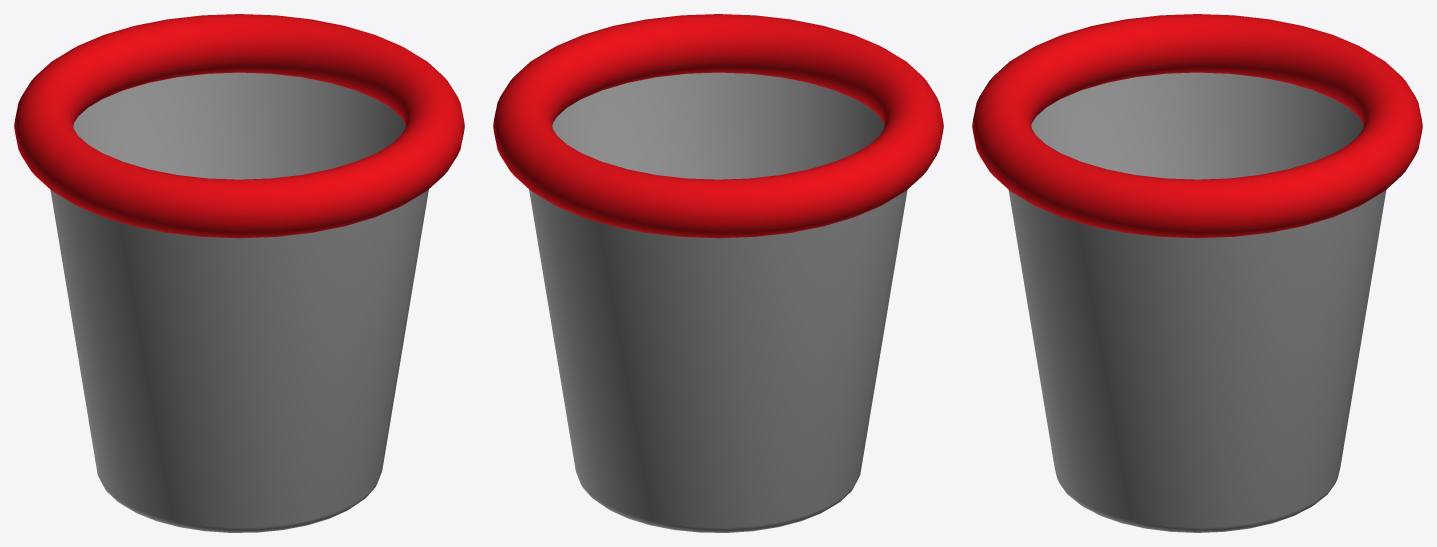
File: bucket.fbx
The picture shows the model from 3 angles, left to right: view 1: azimuth 30°, elevation 25°; view 2: azimuth 150°, elevation 25°; view 3: azimuth 270°, elevation 25°; orthographic projection.
Parts seen in each view (by area): view 1: Bucket, Torus.001; view 2: Bucket, Torus.001; view 3: Bucket, Torus.001.
Boxes of the visible parts, left/top/right/bottom form: Bucket: left=50, top=72, right=428, bottom=532; Torus.001: left=14, top=14, right=464, bottom=238; Bucket: left=529, top=72, right=907, bottom=532; Torus.001: left=493, top=14, right=943, bottom=238; Bucket: left=1008, top=72, right=1386, bottom=532; Torus.001: left=972, top=14, right=1422, bottom=238.
Bounding box in the file's own units: 230 × 212 × 230.
